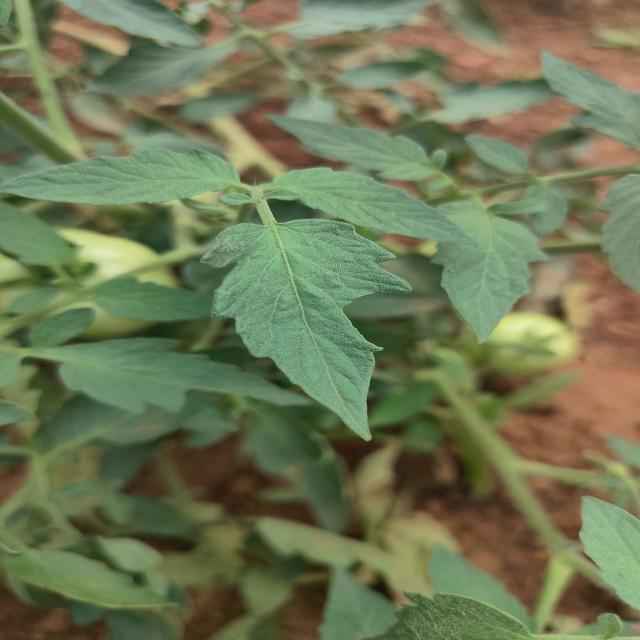tomato_healthy: (200, 200, 410, 440), (406, 181, 565, 346), (27, 338, 307, 412), (245, 108, 462, 187), (0, 533, 190, 616), (269, 167, 473, 243), (0, 148, 238, 204), (554, 479, 640, 612), (77, 264, 229, 330), (534, 54, 640, 148)
